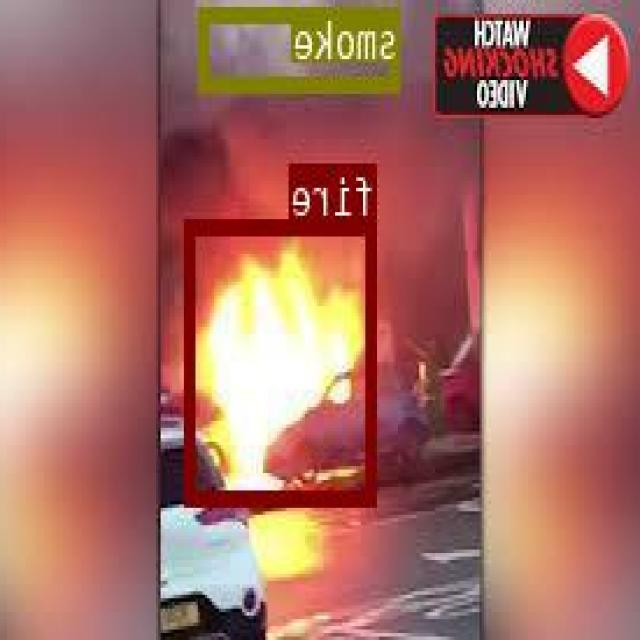fire: (187, 217, 379, 501)
smoke: (200, 6, 402, 90)
